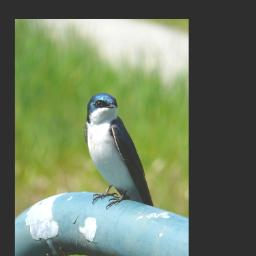Swallow: (82, 91, 154, 211)
